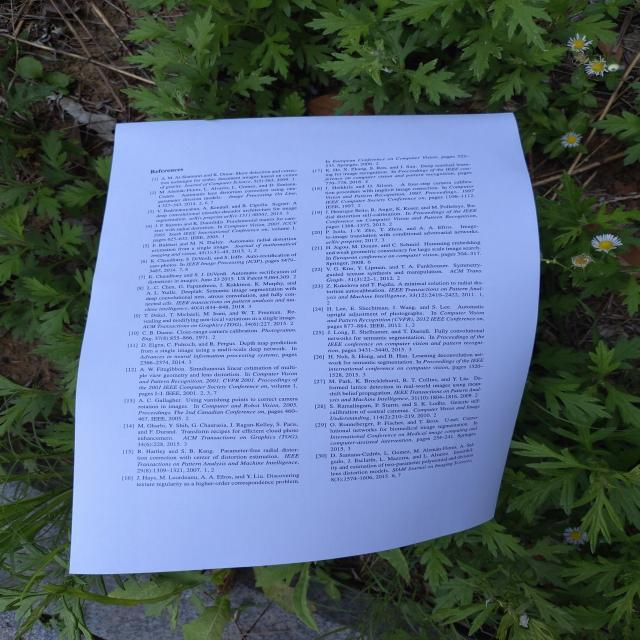document: (70, 114, 540, 574)
